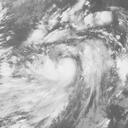cyclone: (26, 41, 108, 104)
